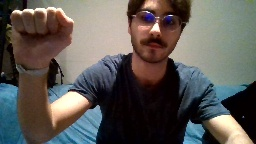Pugno: (5, 4, 77, 70)
